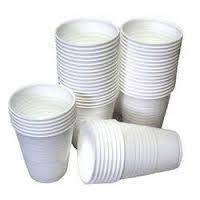Plastic cup: (12, 12, 200, 195)
